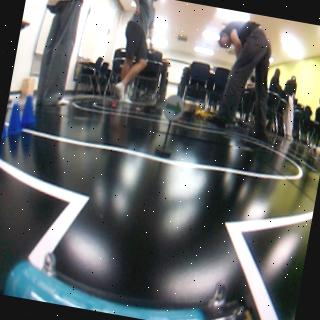right: (158, 91, 190, 124)
